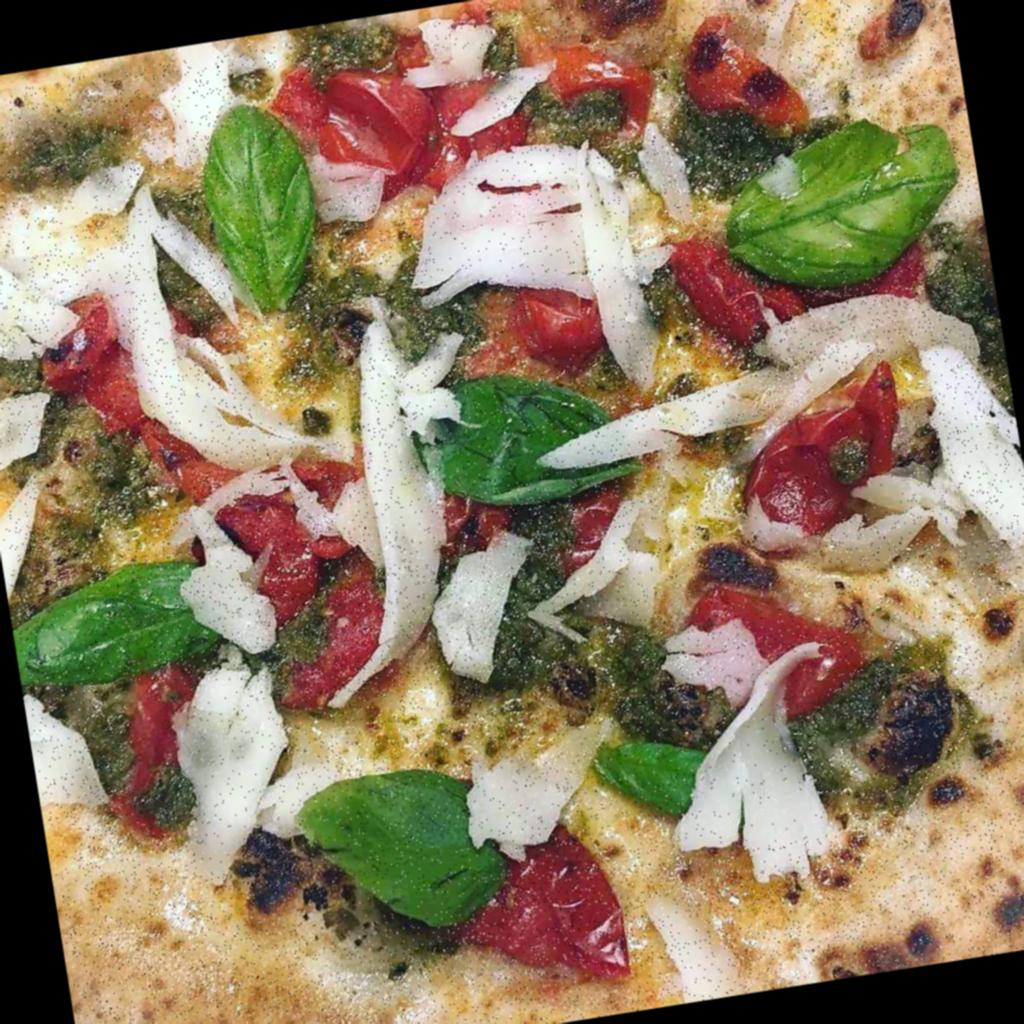Basil: (302, 756, 522, 939), (731, 128, 926, 287), (194, 96, 328, 294), (412, 377, 590, 502), (28, 570, 198, 672), (598, 723, 721, 842)
Cheese: (424, 140, 660, 304), (662, 654, 852, 852), (340, 334, 454, 608), (184, 668, 304, 872), (136, 319, 278, 489), (0, 208, 158, 348), (778, 276, 968, 380), (926, 352, 1024, 533), (454, 728, 609, 838), (547, 384, 784, 452), (567, 508, 693, 624), (428, 544, 550, 640)
Pizza: (0, 0, 1024, 1024)
Tomatoes: (54, 308, 238, 504), (724, 361, 909, 533), (248, 497, 392, 704), (317, 48, 493, 182), (696, 569, 850, 711), (475, 839, 633, 960), (658, 211, 788, 355), (680, 13, 796, 147), (522, 29, 649, 135), (108, 678, 202, 813), (514, 280, 617, 372)
